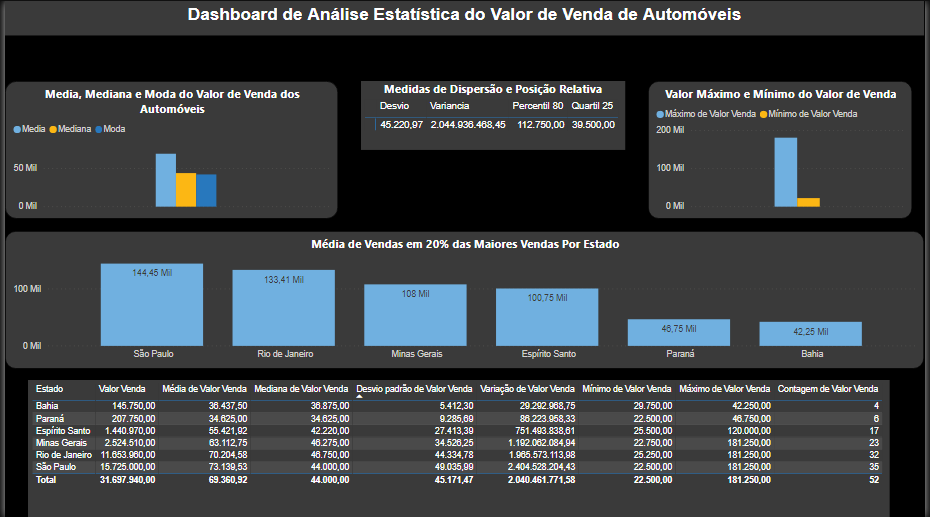

The page's visual inventory and layout, read from the dashboard file:
{"tool":"powerbi","page":{"name":"Página 1","canvas":[1280,720],"ordinal":0},"visuals":[{"type":"clusteredColumnChart","title":"Media, Mediana e Moda do Valor de Venda dos Automóveis","fields":{"Y":["VendaCarros.Media","VendaCarros.Mediana","VendaCarros.Moda"]},"box":[0,112,464,192],"z":0},{"type":"pivotTable","title":"Medidas de Dispersão e Posição Relativa","fields":{"Values":["VendaCarros.Desvio","VendaCarros.Variancia","VendaCarros.Percentil 80","VendaCarros.Quartil 25"]},"box":[496,112,368,96],"z":1000},{"type":"clusteredColumnChart","title":"Valor Máximo e Mínimo do Valor de Venda","fields":{"Y":["Max(VendaCarros.ValorVenda)","Min(VendaCarros.ValorVenda)1"]},"box":[896,112,368,192],"z":2000},{"type":"columnChart","title":"Média de Vendas em 20%  das Maiores Vendas Por Estado","fields":{"Category":["VendaCarros.Estado"],"Y":["VendaCarros.MediaTop20"]},"box":[0,320,1280,192],"z":3000},{"type":"textbox","box":[0,0,1280,48],"z":4000},{"type":"tableEx","fields":{"Values":["VendaCarros.Estado","Sum(VendaCarros.ValorVenda)","Avg(VendaCarros.ValorVenda)","Median(VendaCarros.ValorVenda)","StandardDeviation(VendaCarros.ValorVenda)","Variance(VendaCarros.ValorVenda)","Min(VendaCarros.ValorVenda)","Max(VendaCarros.ValorVenda)","Count(VendaCarros.ValorVenda)"]},"box":[0,528,1280,192],"z":5000}]}

Visuals, with their boxes in screenshot pixels (x1, y1, x2, y2), scaled from the page's 1280x720 canvas onto the 930x517 screenshot:
"Media, Mediana e Moda do Valor de Venda dos Automóveis" clusteredColumnChart: {"left": 0, "top": 80, "right": 337, "bottom": 218}
"Medidas de Dispersão e Posição Relativa" pivotTable: {"left": 360, "top": 80, "right": 628, "bottom": 149}
"Valor Máximo e Mínimo do Valor de Venda" clusteredColumnChart: {"left": 651, "top": 80, "right": 918, "bottom": 218}
"Média de Vendas em 20%  das Maiores Vendas Por Estado" columnChart: {"left": 0, "top": 230, "right": 929, "bottom": 368}
textbox: {"left": 0, "top": 0, "right": 929, "bottom": 34}
tableEx - VendaCarros.Estado x Sum(VendaCarros.ValorVenda): {"left": 0, "top": 379, "right": 929, "bottom": 516}
